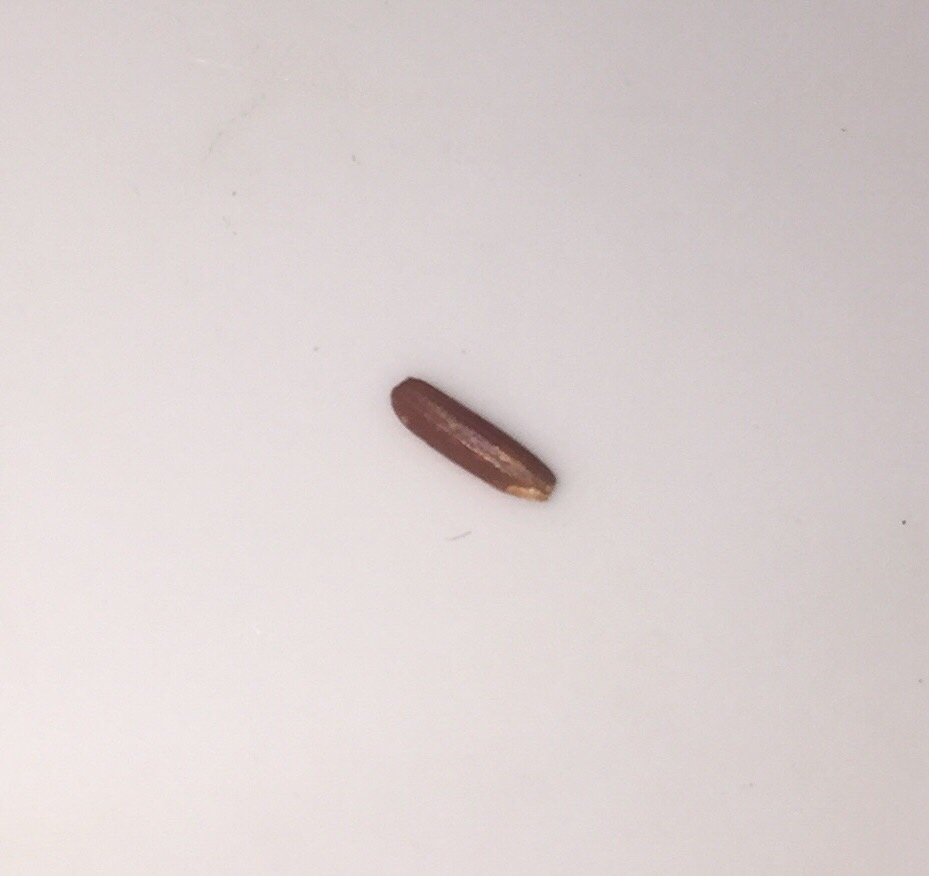Gao Huyet Rong: (370, 362, 574, 513)
